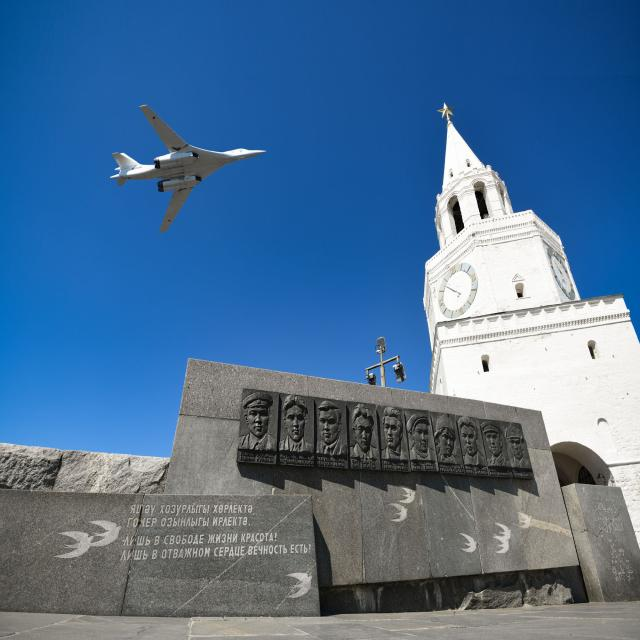MIL_Plane: (110, 104, 266, 232)
